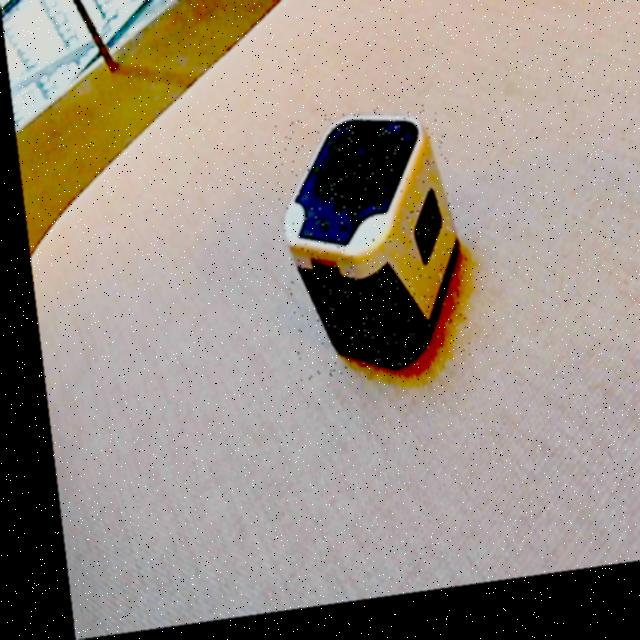adapter: (265, 111, 463, 389)
